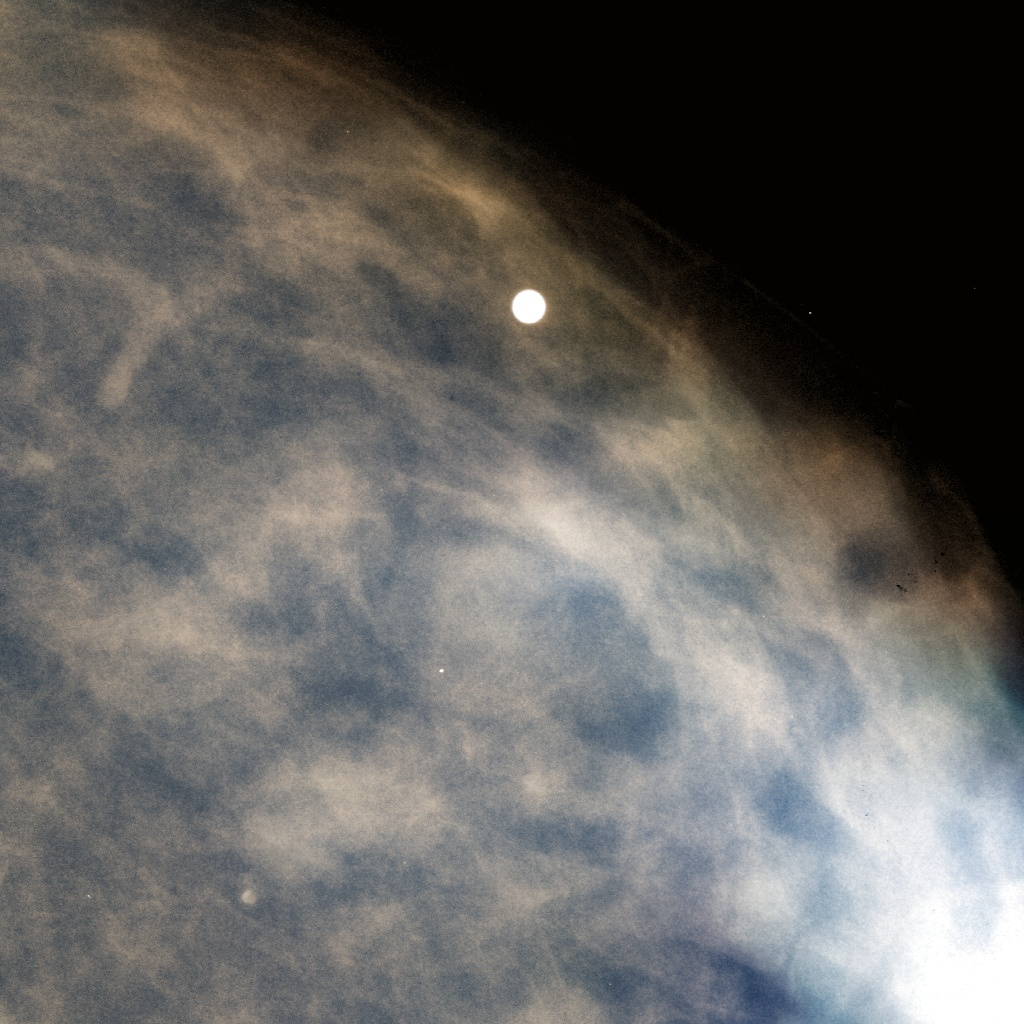tumor: (401, 420, 623, 604)
